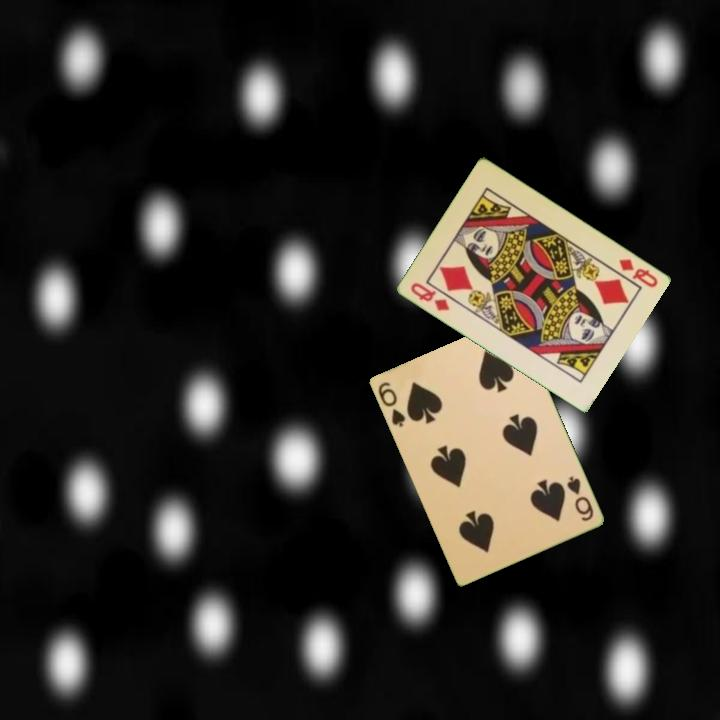6s: (374, 378, 408, 430), (562, 472, 596, 524)
Qd: (616, 255, 661, 291), (407, 279, 453, 314)
